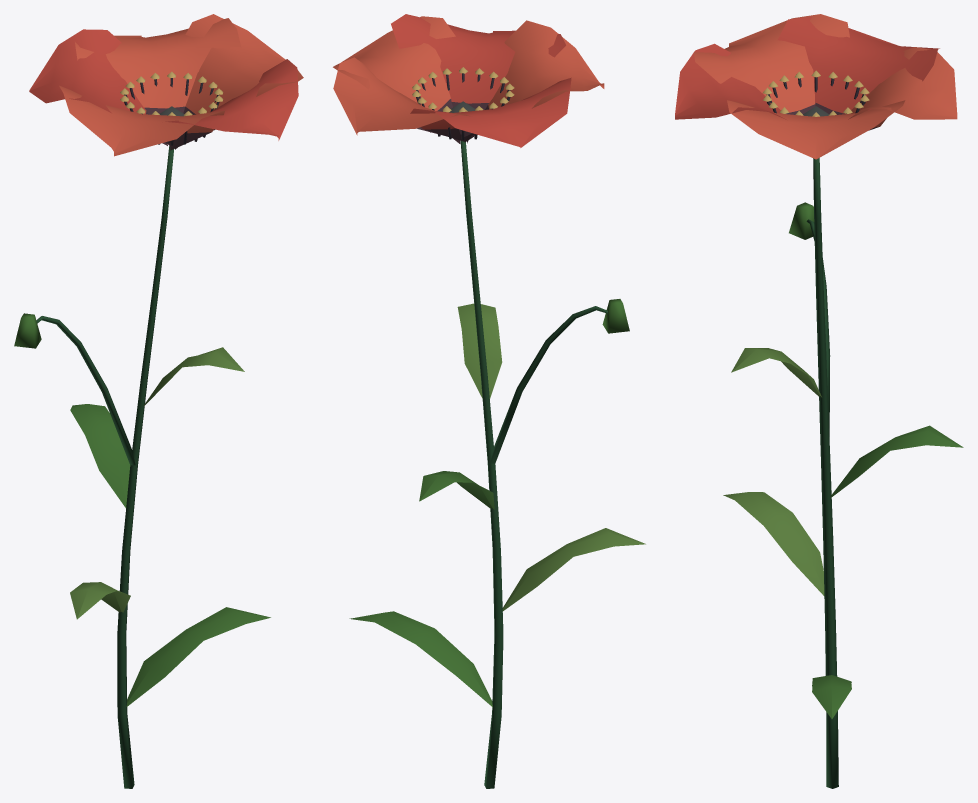
The model's file is meadow_poppy.glb.
3 views of the same model, side by side, from view 1: azimuth 30°, elevation 25°; view 2: azimuth 150°, elevation 25°; view 3: azimuth 270°, elevation 25° (orthographic). The views are drawn at different scales.
Visible parts, largest first — view 1: body; view 2: body; view 3: body.
Boxes of the visible parts, box(x1,y1,x2,y2) form: body: box(14, 14, 303, 788); body: box(333, 14, 645, 788); body: box(675, 14, 963, 788).
Size of the model in its own units: 0.25 by 0.5989 by 0.2114.
